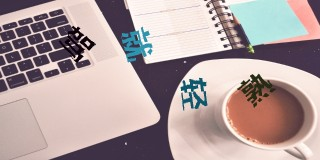就: (121, 26, 153, 63)
熟: (237, 73, 276, 107)
轻: (179, 76, 209, 111)
驾: (59, 26, 95, 63)
